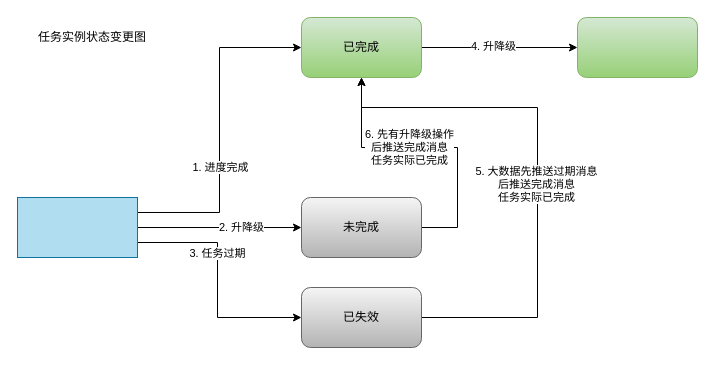
Some shapes in this 715 by 365 pixel diagram are drawn without their labels. Here are the shapes that lost their labels. From the top down, the box of each, then its label:
(576, 16, 698, 78): 已完成-已失效
(16, 196, 138, 258): 进行中
